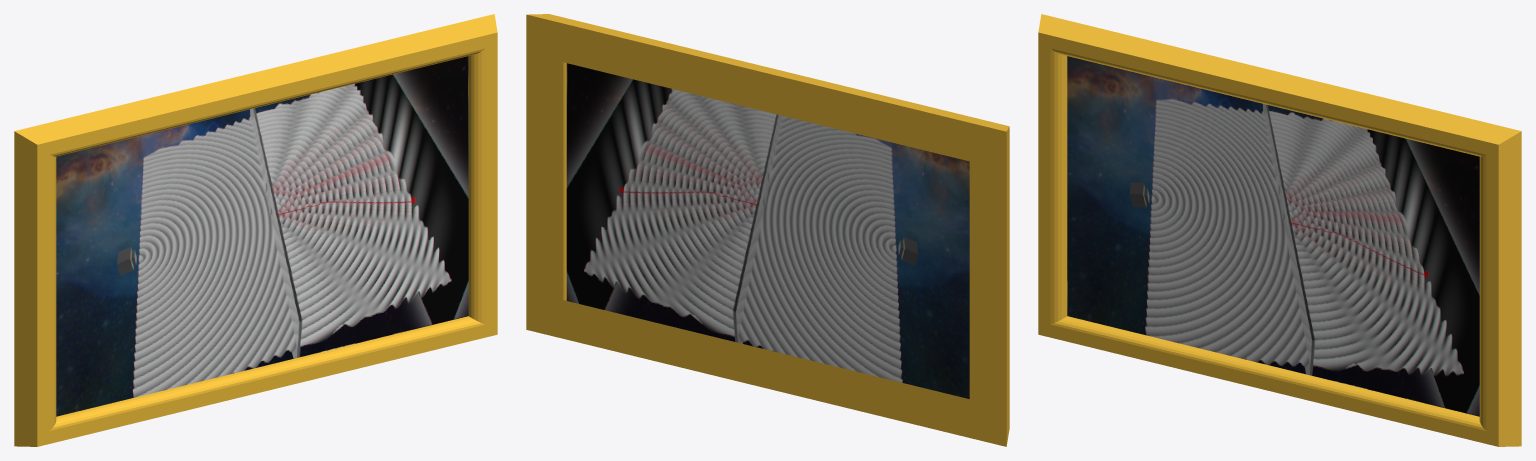
File: Picture.glb
3 renders of one model, left to right at view 1: azimuth 30°, elevation 25°; view 2: azimuth 150°, elevation 25°; view 3: azimuth 330°, elevation 25°, orthographic.
Visible parts, largest first — view 1: Cube.006, Cube.001; view 2: Cube.006, Cube.001; view 3: Cube.006, Cube.001.
Boxes of the visible parts, x1,y1,x2,y2 form: Cube.006: (56, 56, 468, 416); Cube.001: (14, 14, 497, 446); Cube.006: (566, 63, 969, 398); Cube.001: (526, 14, 1009, 446); Cube.006: (1067, 56, 1479, 416); Cube.001: (1038, 14, 1521, 446).
Size of the model in its own units: 6.81 by 4.27 by 0.3195.
2 materials, 1 textured.
